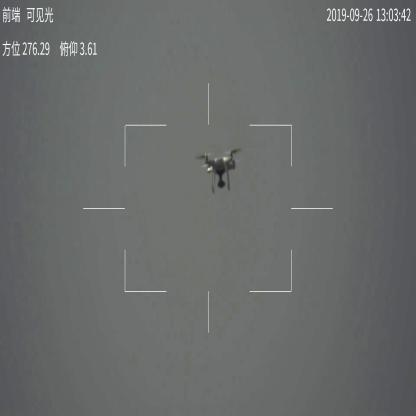uav: (192, 150, 242, 194)
